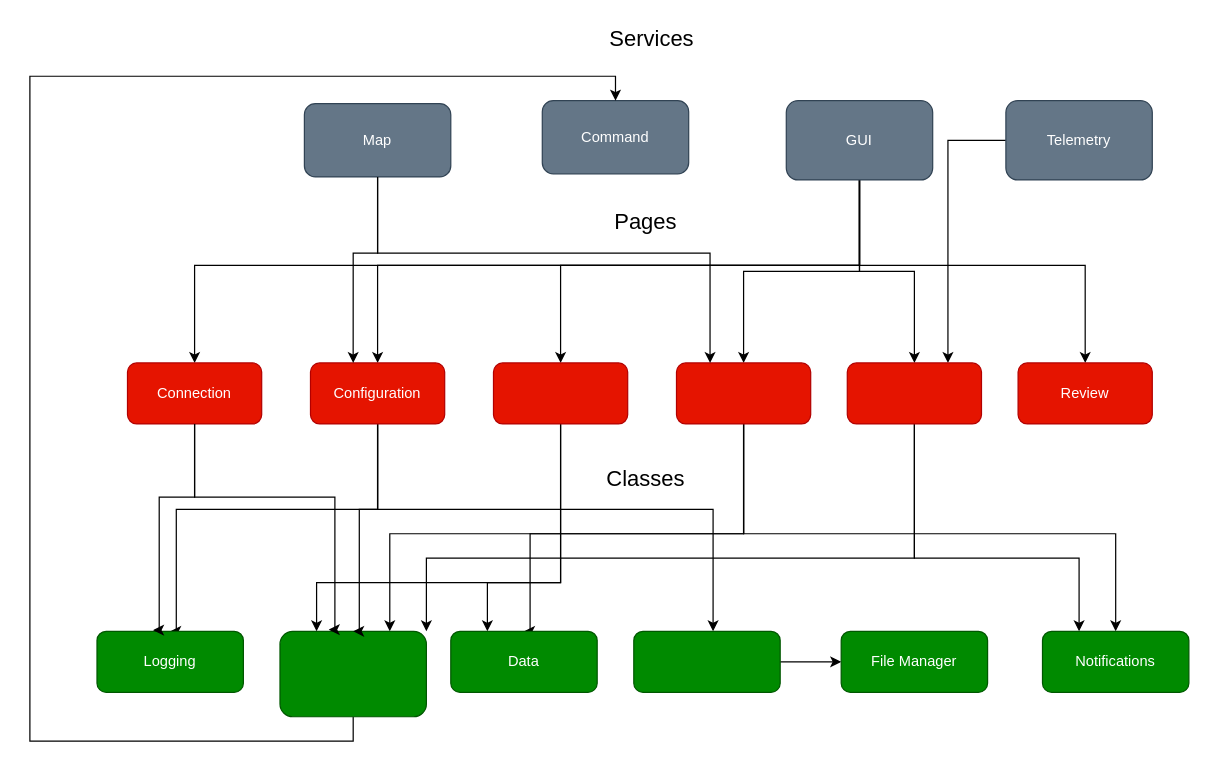
The diagram is 1210 pixels wide and 772 high, and some of its shapes have lost their labels. Each missing label, with the centre of its shape:
Calibration: pixel 560 393
Camera: pixel 913 393
Control Implementation (Via Command): pixel 352 673
Flight: pixel 743 393
Settings: pixel 706 661
